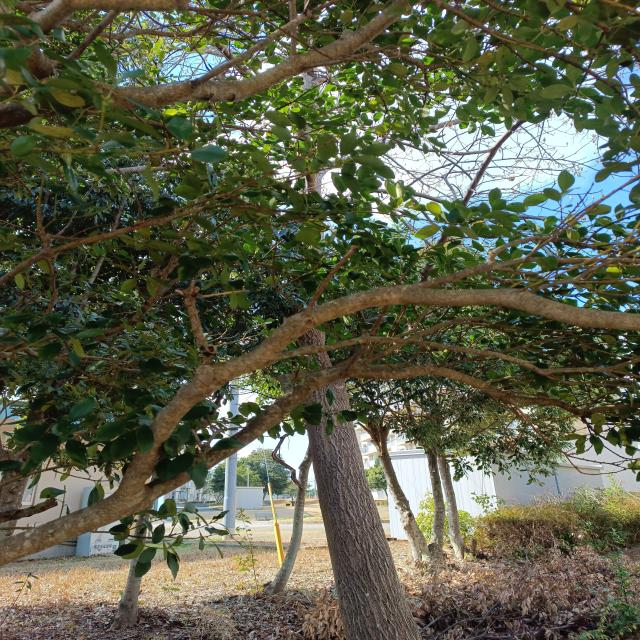Branch: (122, 285, 639, 487), (152, 361, 585, 499), (2, 0, 420, 125), (0, 485, 152, 567)
Twig: (282, 336, 639, 376), (415, 235, 638, 290), (195, 9, 312, 81), (360, 316, 513, 363), (60, 3, 243, 40), (307, 245, 355, 309)
